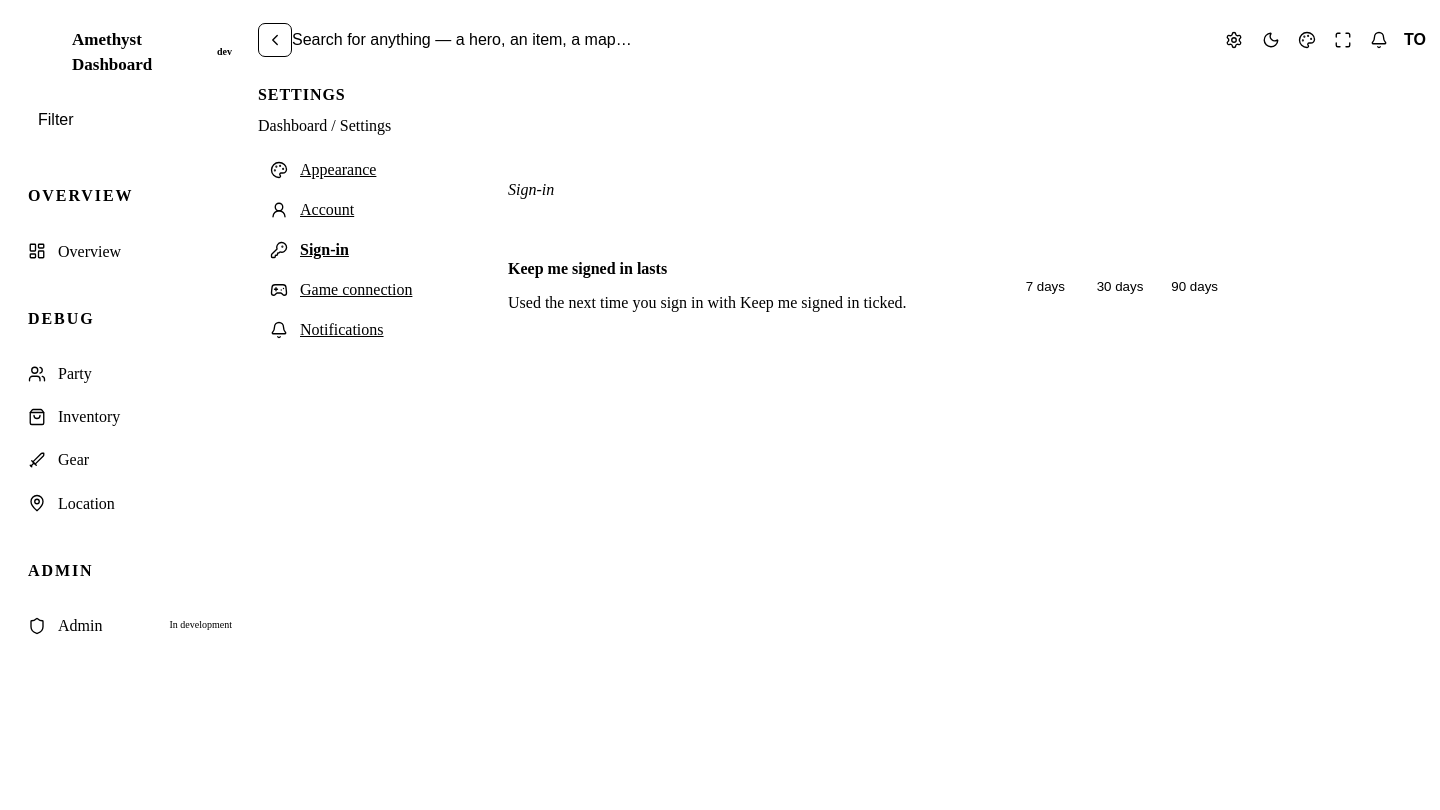
Test: the Settings page › a list of the five sections sits at the left, and the open one is marked
expect the heading "Settings" is shown: met, box [258,86,346,103]
expect the text "Dashboard / Settings" is shown: met, box [258,117,391,135]
Click the link "Game connection" at (341, 290), box [270,281,412,299]
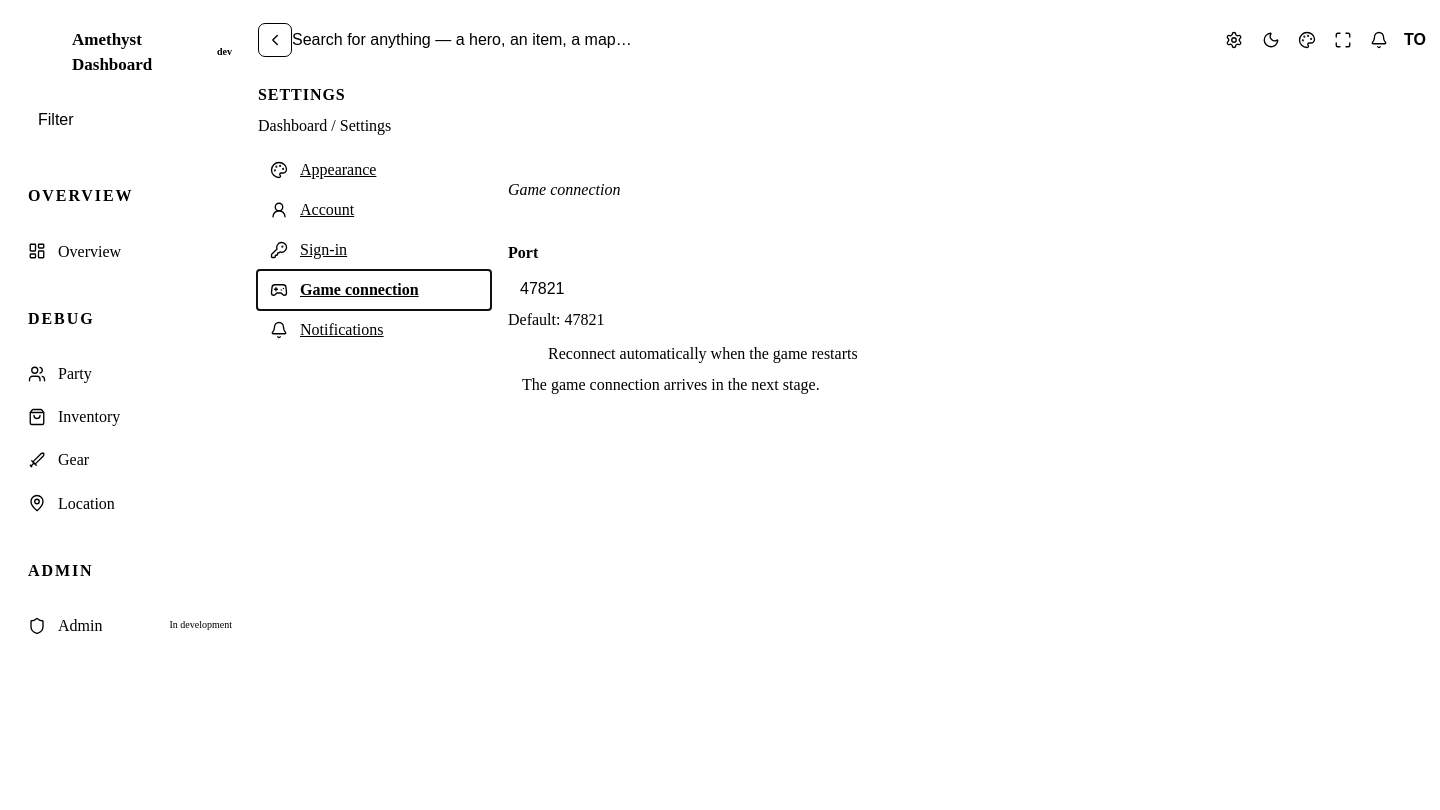
expect the element "Game connection" is shown: met, box [508,181,858,393]
